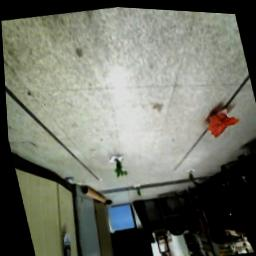herb: (110, 154, 130, 179), (186, 167, 196, 182), (134, 185, 141, 197)
wild: (202, 106, 246, 141)
